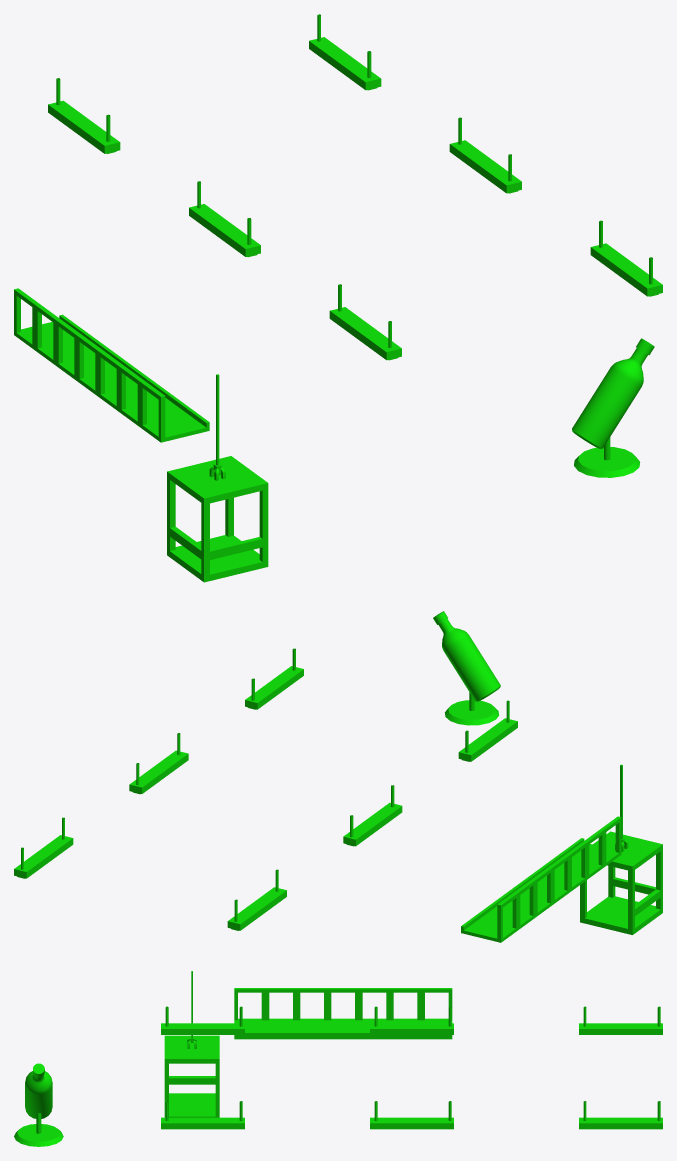
3 views of the same model, one above another, from view 1: azimuth 30°, elevation 25°; view 2: azimuth 150°, elevation 25°; view 3: azimuth 270°, elevation 25° (orthographic). The views are drawn at different scales.
Visible parts, largest first — view 1: Lampes, Platform, Ascenseur, Piedestal; view 2: Lampes, Platform, Ascenseur, Piedestal; view 3: Lampes, Platform, Ascenseur, Piedestal.
Boxes of the visible parts, x1,y1,x2,y2 form: Lampes: (48, 14, 662, 360); Platform: (14, 288, 209, 442); Ascenseur: (167, 456, 268, 582); Piedestal: (572, 338, 654, 477); Lampes: (14, 648, 517, 930); Platform: (461, 816, 621, 942); Ascenseur: (580, 831, 662, 934); Piedestal: (433, 611, 500, 725); Lampes: (161, 1006, 662, 1129); Platform: (234, 988, 452, 1039); Ascenseur: (164, 1035, 219, 1117); Piedestal: (14, 1063, 63, 1146).
Bounding box in the file's own units: 2845 × 1305 × 4726.
